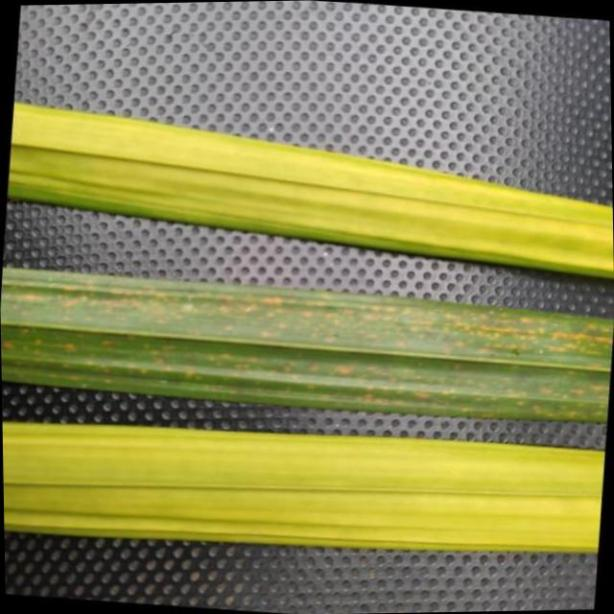nitrogen: (3, 99, 614, 283), (0, 254, 614, 421), (3, 416, 614, 558)
